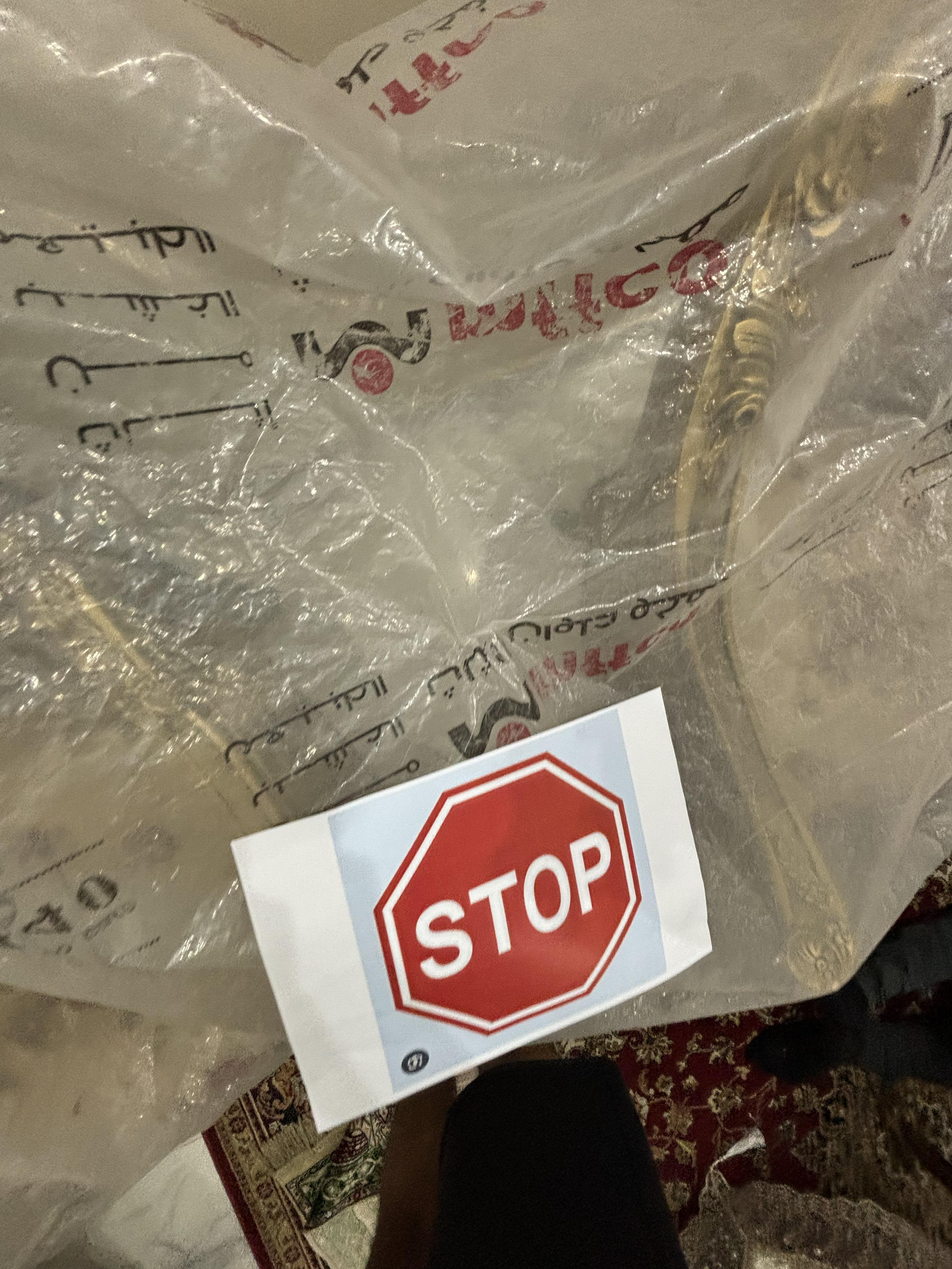Stop: (367, 740, 662, 1042)
